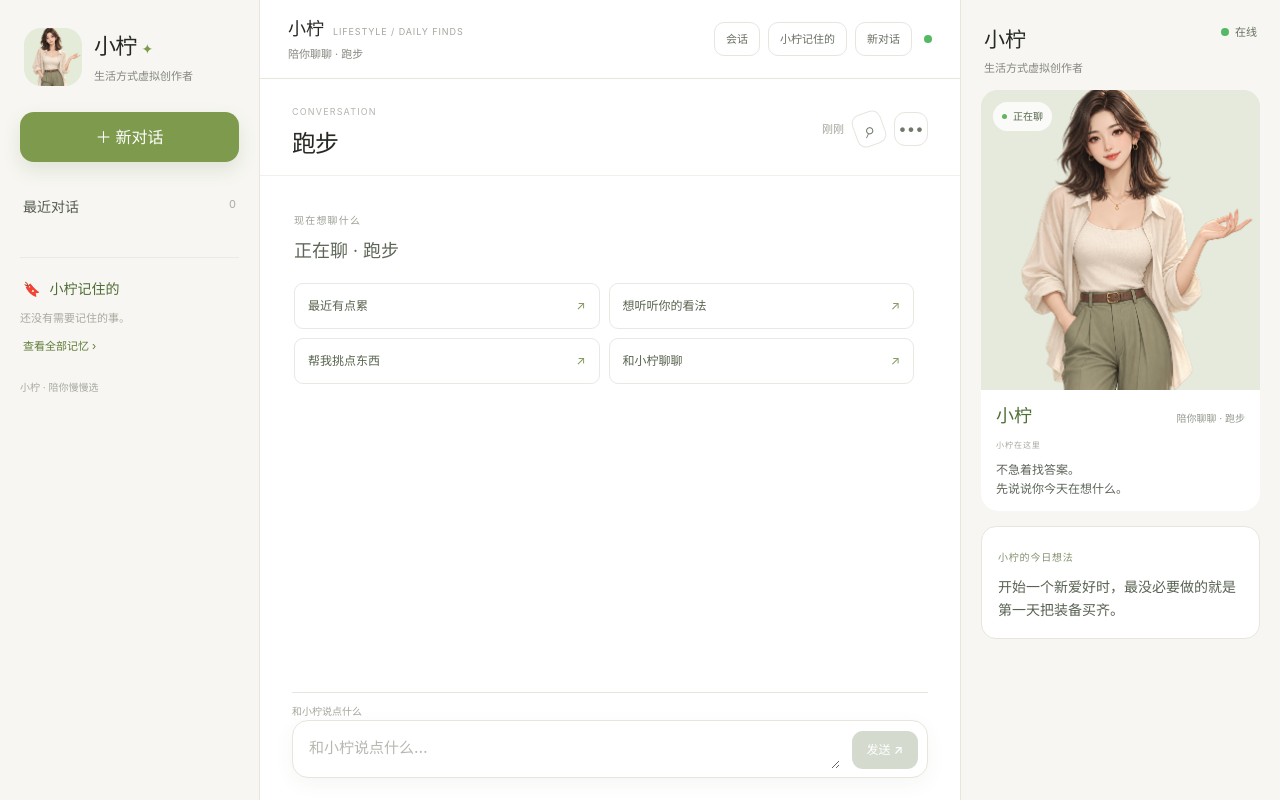
Test: Final Creator Home › renders evidence-backed ProductInsights with explicit currency and safe fallbacks
Expected: the element with test id "avatar-stage" is shown, x1=981 y1=90 x2=1260 y2=511
Type "那你帮我看看有没有适合跑步的耳机" into the text box with placeholder "和小柠说点什么…" at point(574, 750), box x1=309 y1=731 x2=840 y2=769
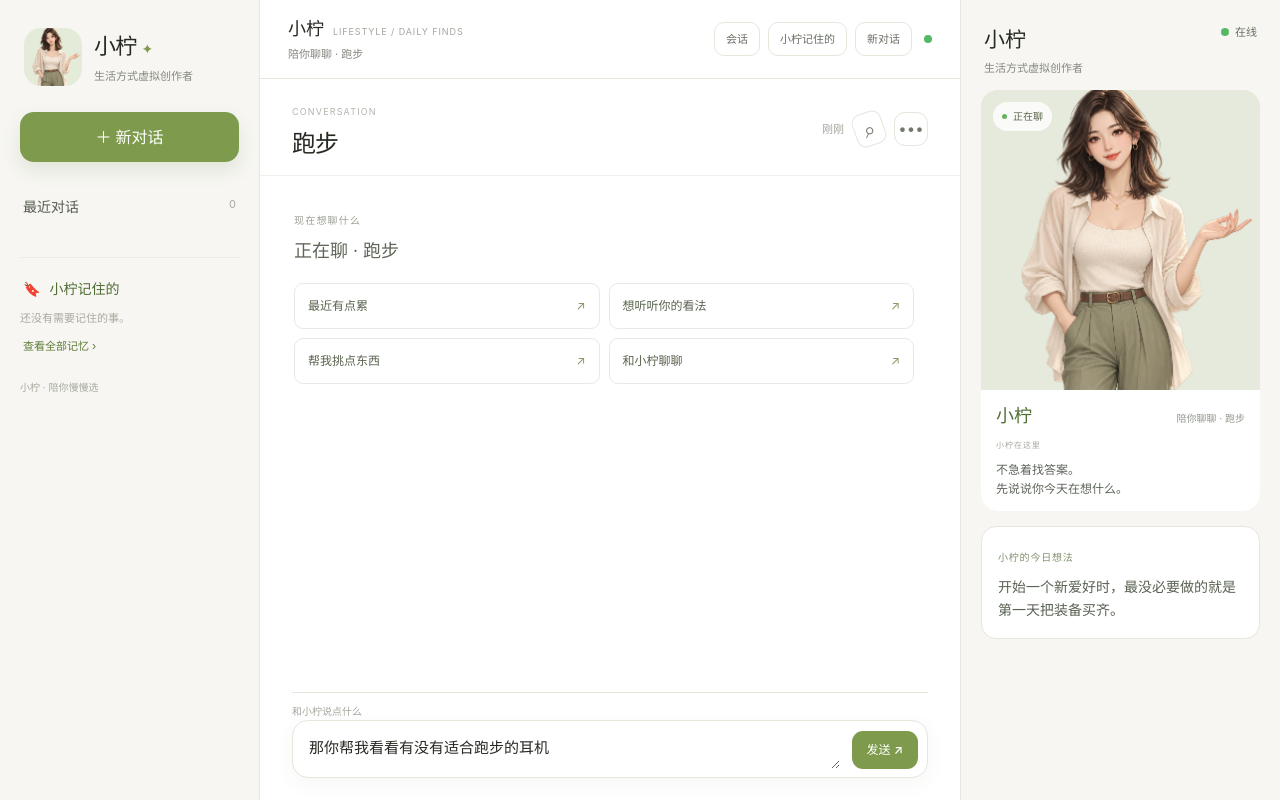
Click the button "发送 ↗" at point(885, 750), box x1=852 y1=731 x2=918 y2=769
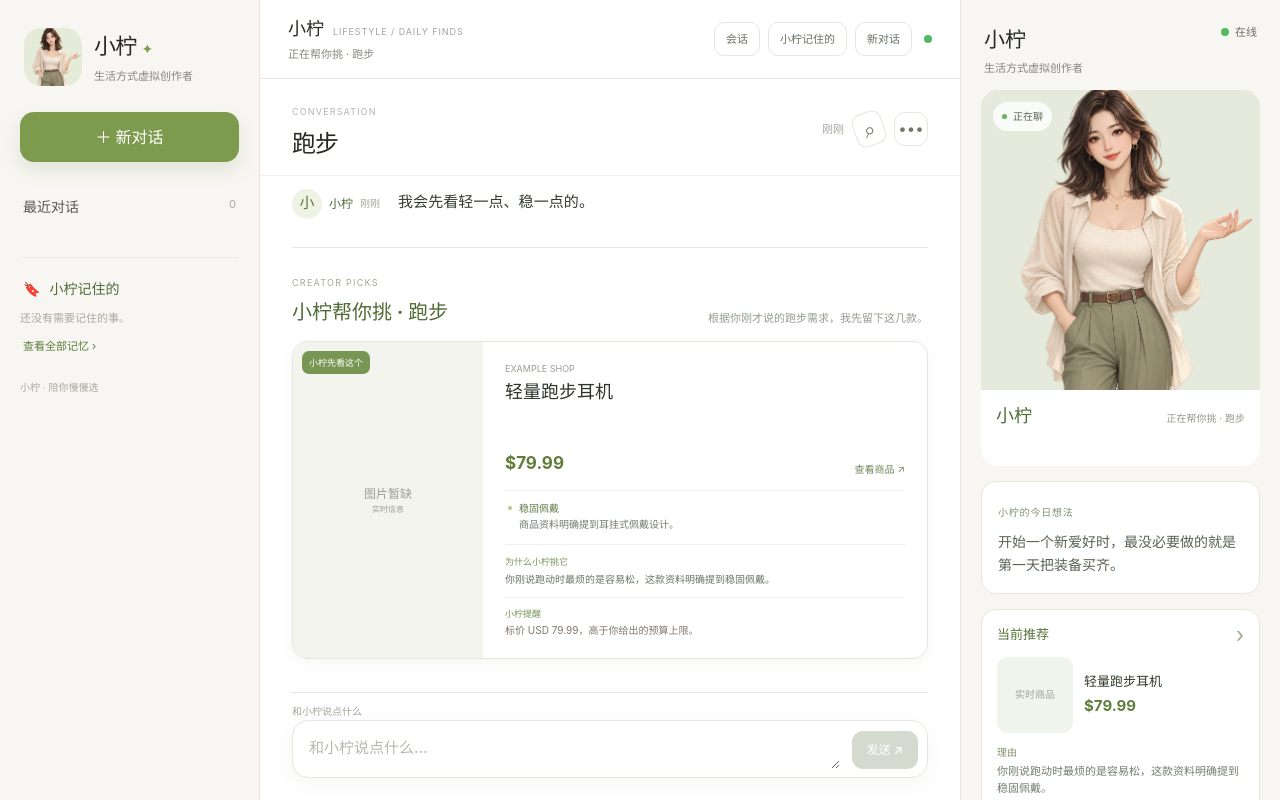
Result: the text "我会先看轻一点、稳一点的。" is shown at x1=398 y1=192 x2=594 y2=211
Result: the element "小柠帮你挑" shows "轻量跑步耳机" at x1=292 y1=341 x2=928 y2=659
Result: the element "小柠帮你挑" shows "$79.99" at x1=292 y1=341 x2=928 y2=659
